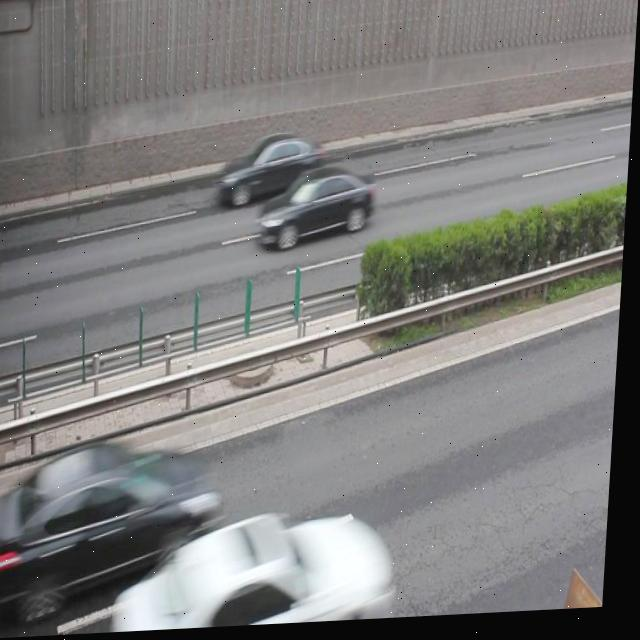car: (0, 431, 229, 607), (120, 508, 404, 633), (261, 171, 379, 248), (222, 138, 330, 206)
